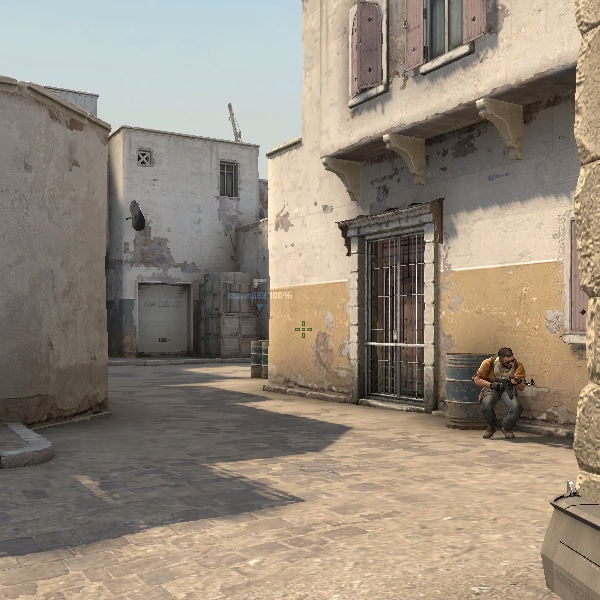t_body: (474, 344, 537, 440)
t_head: (491, 344, 523, 375)
